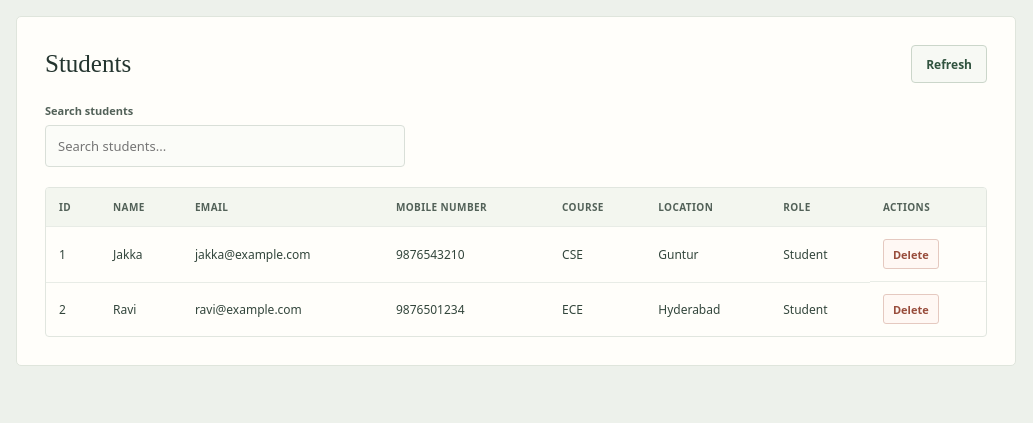
Scenario: StudentsTable › shows the default error when deleting fails with status 400
The image size is (1033, 423).
Check: the text "Jakka" is shown, box [100, 226, 182, 282]
Click the button "Delete" in the row of "jakka@example.com": (911, 254) [883, 239, 939, 269]
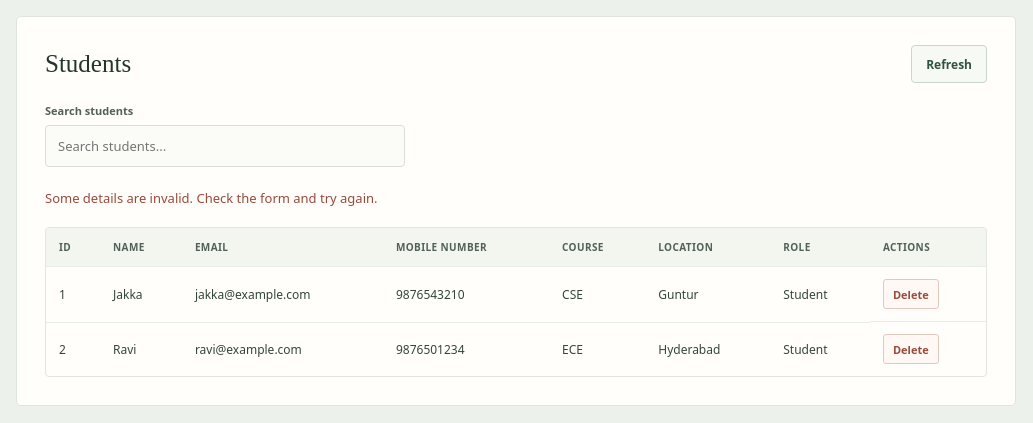
Check: the text "Some details are invalid. Check the form and try again." is shown, box [45, 189, 378, 207]
